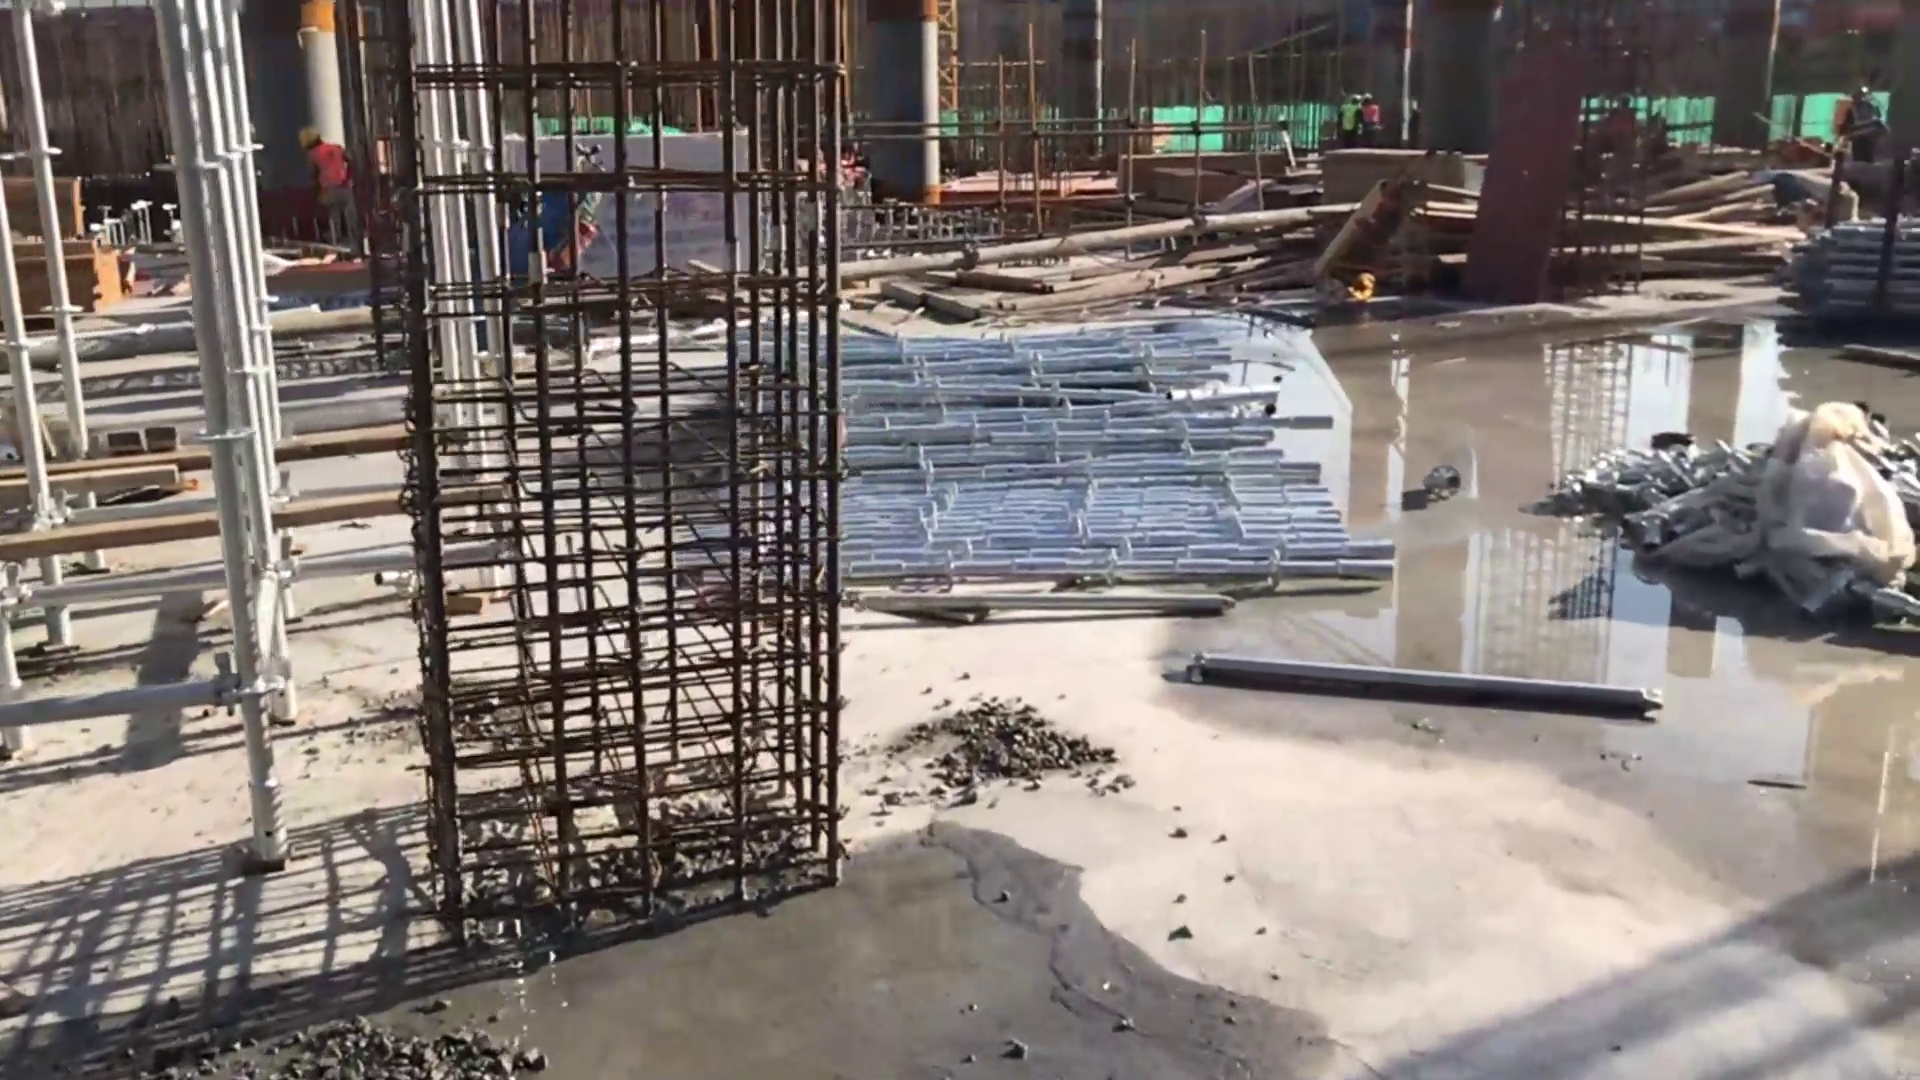helmet: (297, 127, 322, 145)
person: (293, 124, 362, 262)
scaffold: (848, 329, 1393, 611), (1806, 220, 1920, 314)
wood: (1646, 174, 1797, 280)
